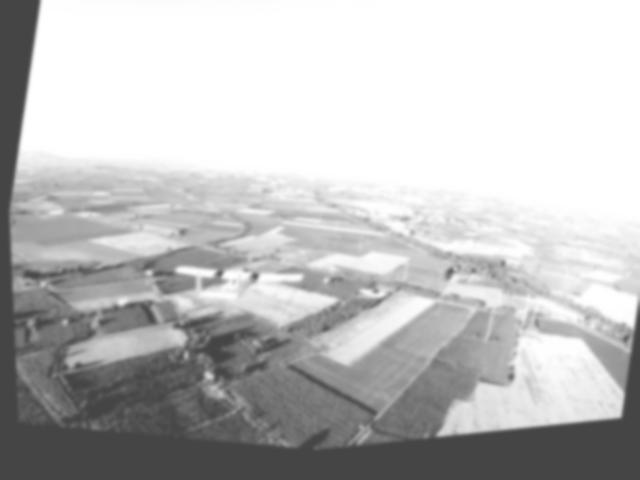hedef: (152, 240, 312, 337)
